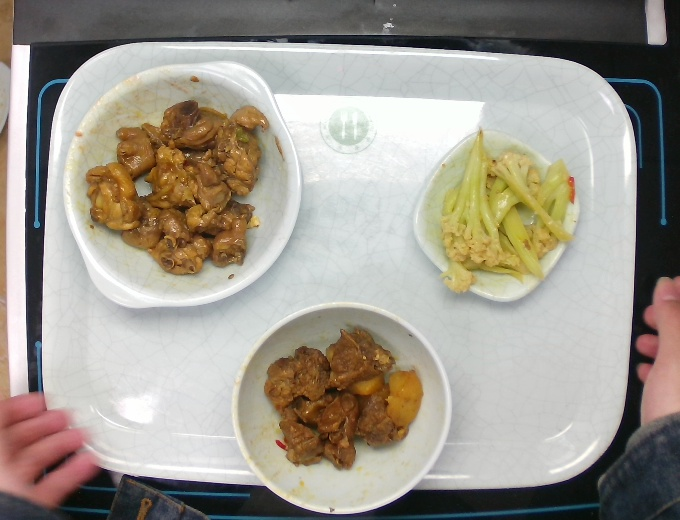JYsf-Fan_Wan: (230, 291, 459, 520)
JYsf-Shuang_Er_Wan: (59, 62, 305, 315)
JYsf-Si_Fang_Die: (415, 126, 582, 300)
